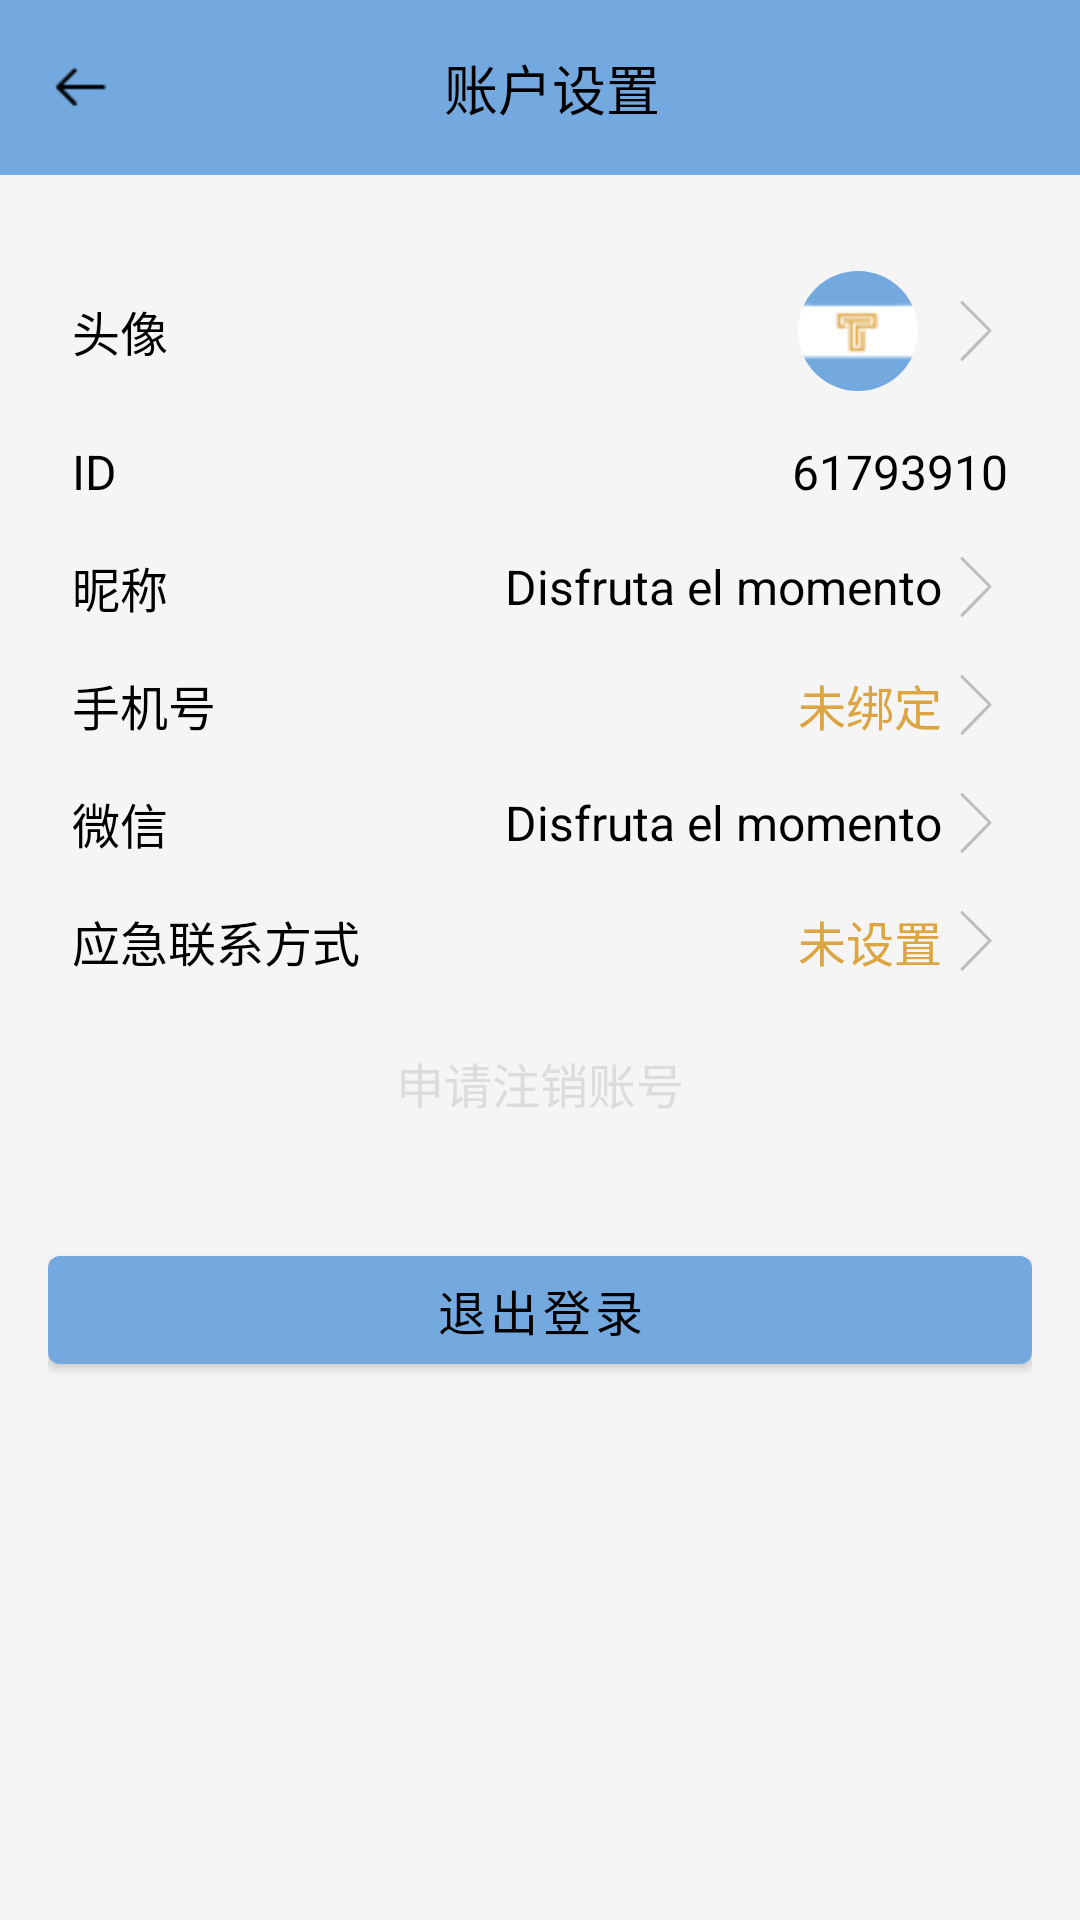

Named icons in this screenshot (1080×1920) and their centers, [x,y]:
arrow back: [80,87]
arrow right: [976,331], [976,587], [976,705], [976,823], [976,941]
